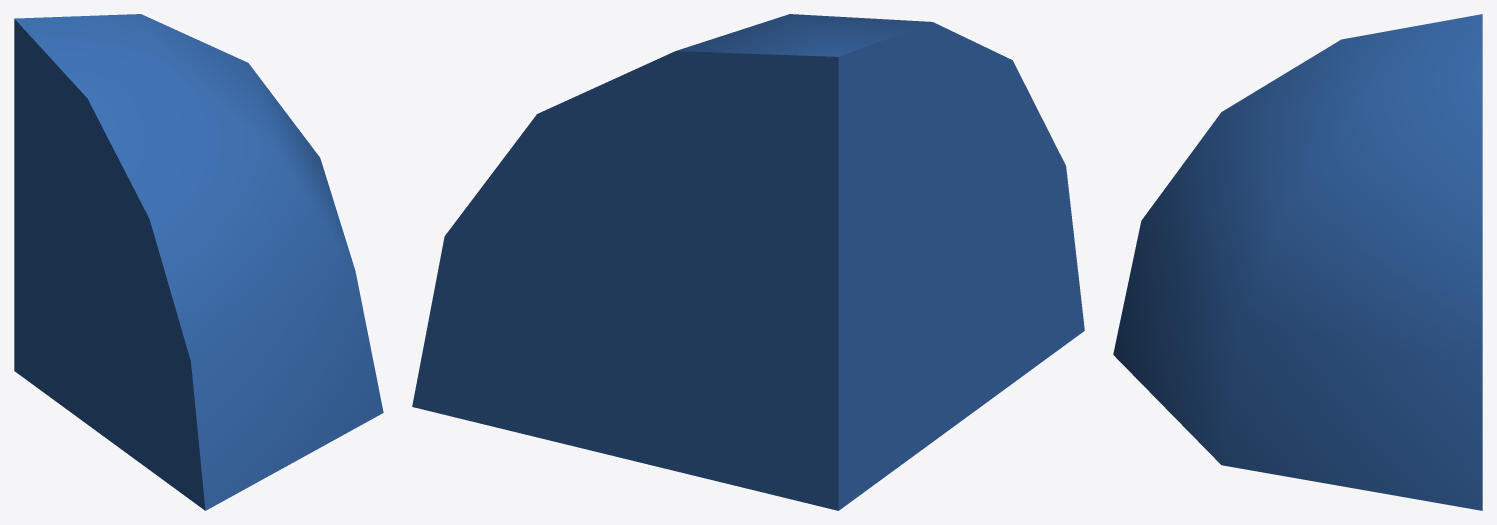
File: SHP0110010.fbx
3 views of the same model, side by side, from view 1: azimuth 30°, elevation 25°; view 2: azimuth 150°, elevation 25°; view 3: azimuth 270°, elevation 25° (orthographic). The views are drawn at different scales.
Parts seen in each view (by area): view 1: smSHP0110010; view 2: smSHP0110010; view 3: smSHP0110010.
Part boxes in pixels (x1,y1,x2,y2): smSHP0110010: [14, 14, 383, 510]; smSHP0110010: [412, 14, 1084, 510]; smSHP0110010: [1113, 14, 1482, 510].
Size of the model in its own units: 72.44 by 73.69 by 72.44.
Materials: 1 (1 with a texture image).
